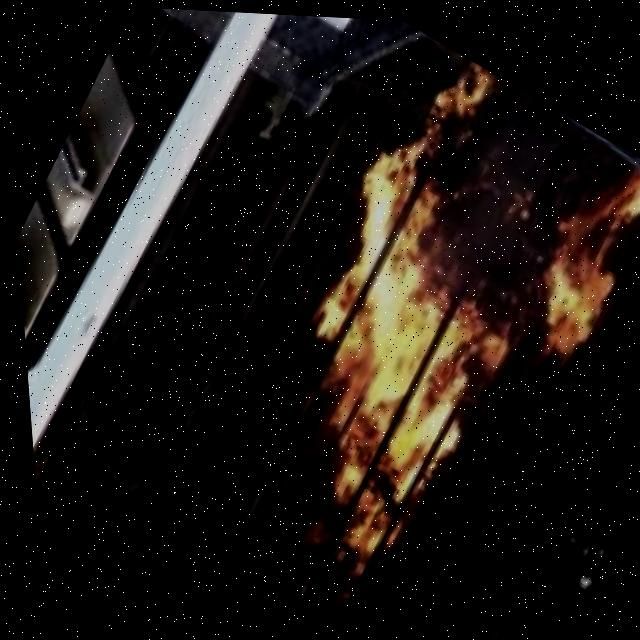Fire: (184, 27, 640, 628)
